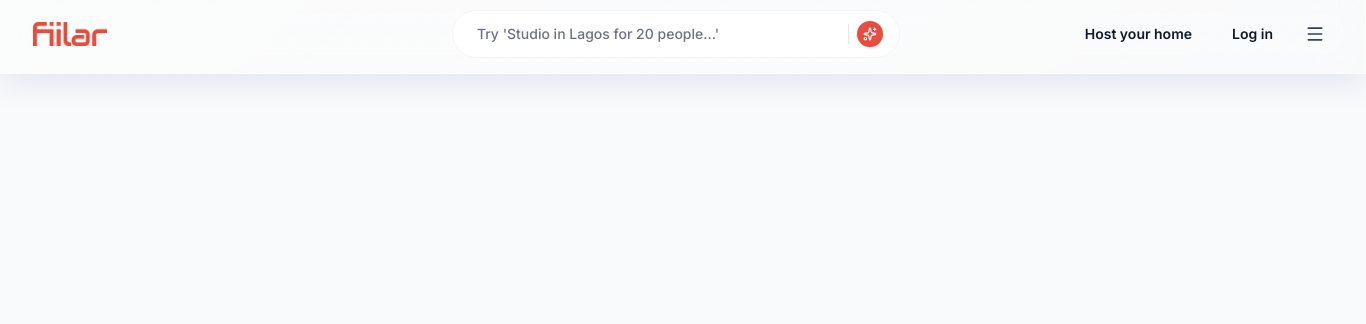
Scenario: Navbar › renders correctly for guest user
Open the account menu to see guest options
Click the button named "account". click: click(1315, 34)
box: x1=1297 y1=16 x2=1333 y2=52
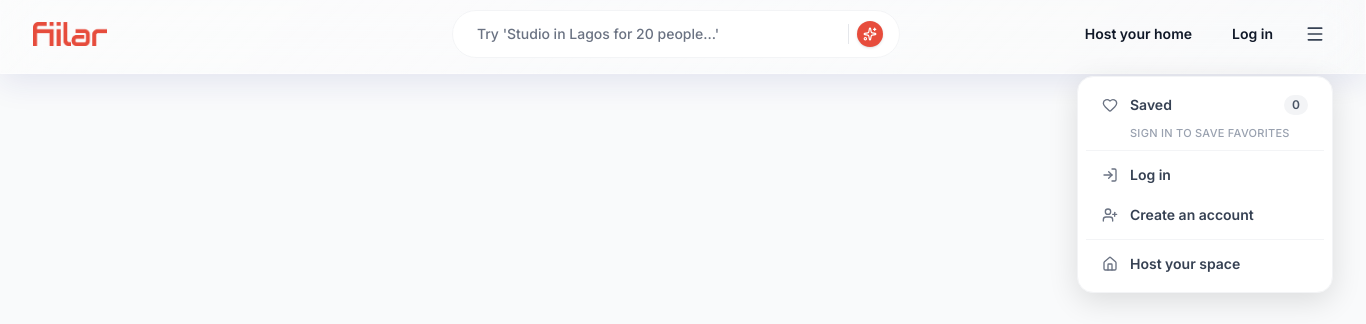
Result: the button "Host your space" is shown at x1=1086 y1=244 x2=1324 y2=284
